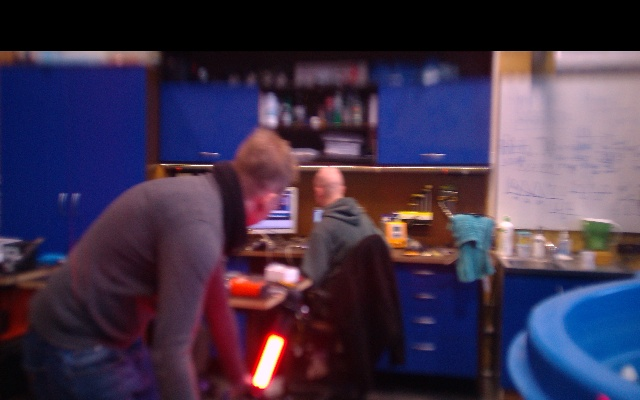red: (251, 335, 287, 393)
